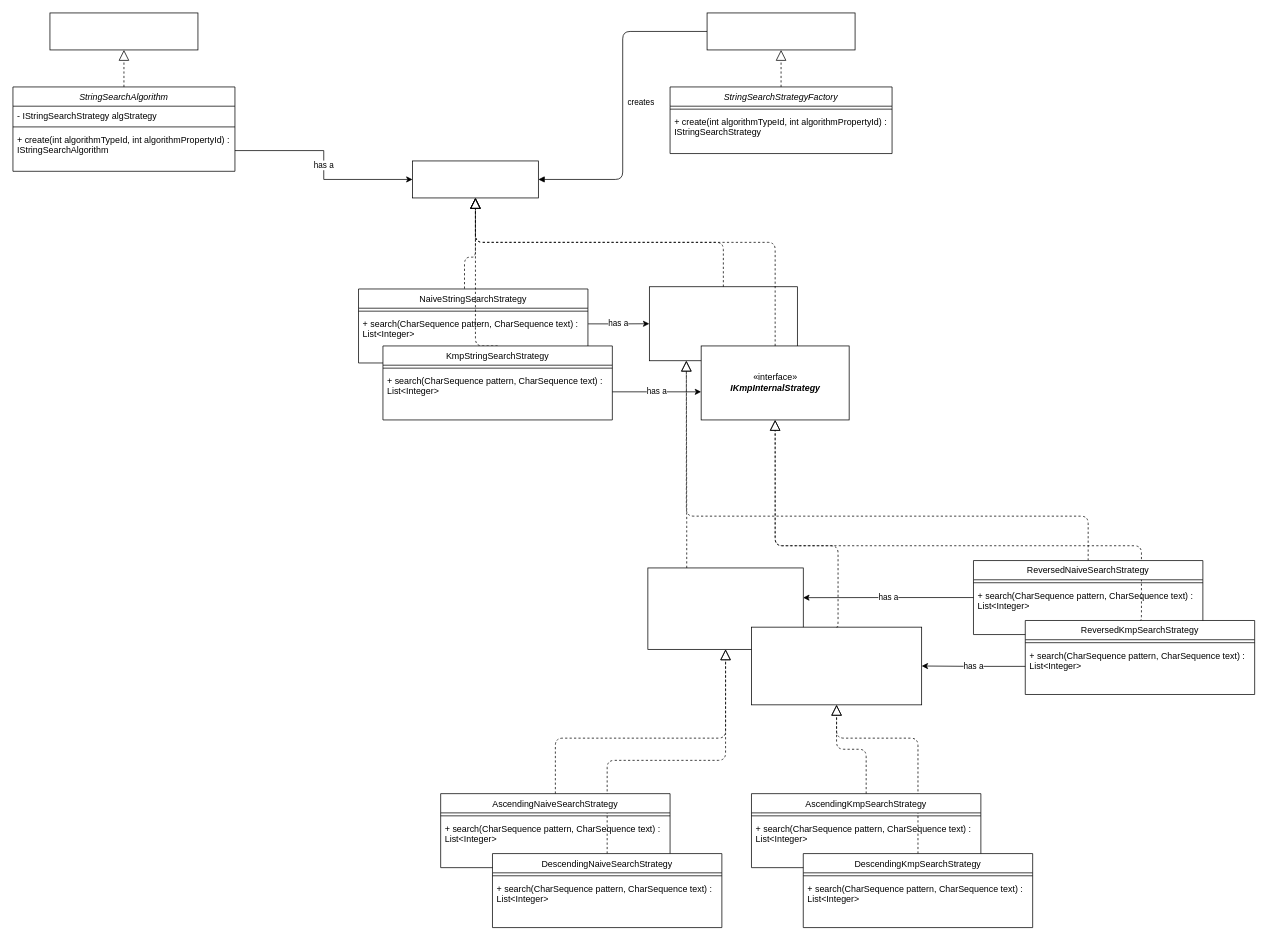
Some shapes in this 1268 by 941 pixel diagram are drawn without their labels. Each missing label, with the centre of its shape:
«interface» com.itaycohen.algorithm.IStringSearchAlgoStrategy: point (475, 179)
«interface» IKmpInternalDirectionalStrategy: point (836, 665)
«interface» INaiveInternalDirectionalStrategy: point (725, 608)
«interface» INaiveInternalStrategy: point (723, 323)
«interface» IStringSearch Strategy .Factory: point (780, 31)
«interface» IStringSearchAlgorithm: point (123, 31)
